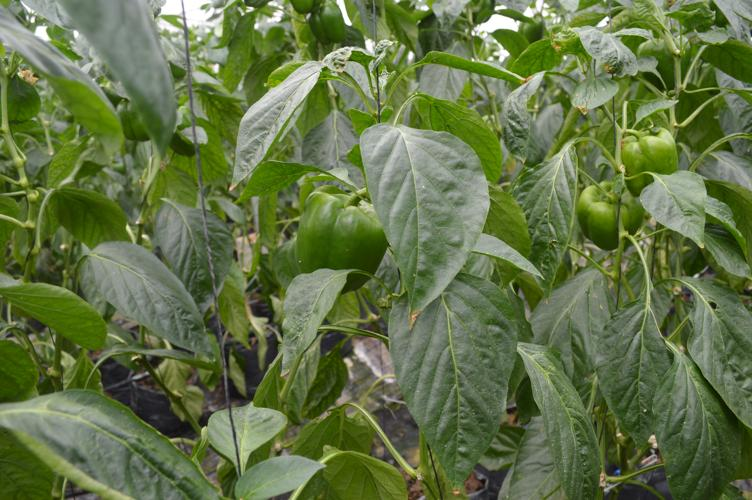BellPepper: (298, 190, 385, 287), (576, 183, 640, 246), (614, 129, 677, 190)
